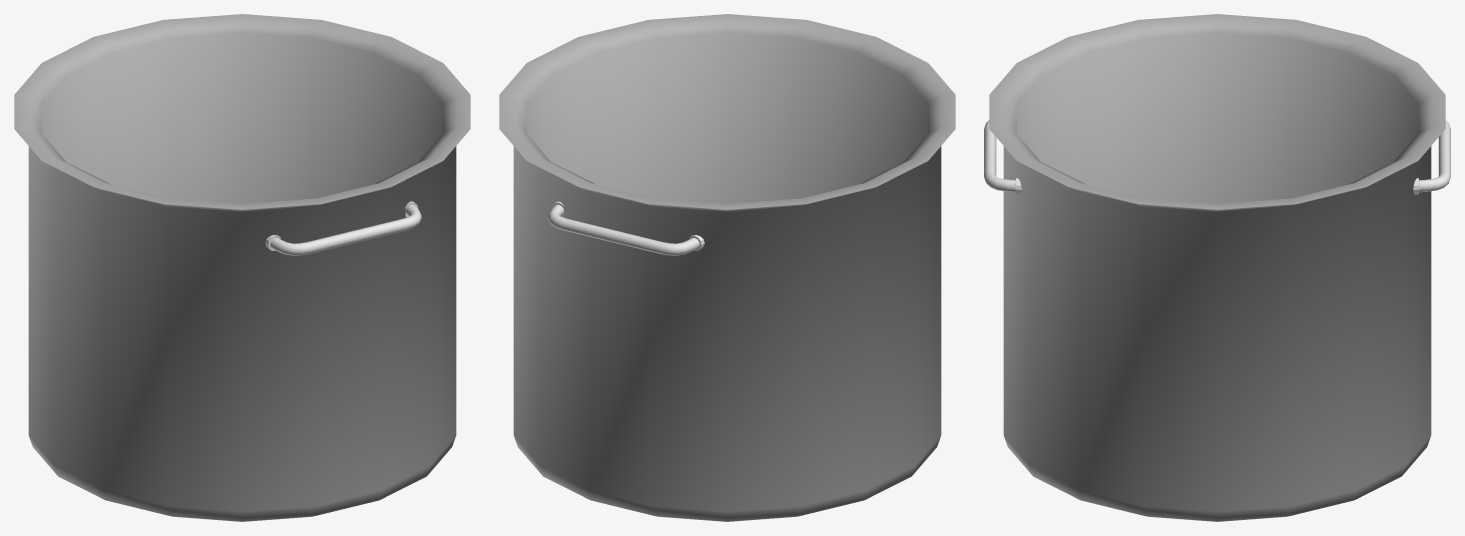
Rendered from KitchenMediumPot.fbx.
3 views of the same model, side by side, from view 1: azimuth 30°, elevation 25°; view 2: azimuth 150°, elevation 25°; view 3: azimuth 270°, elevation 25° (orthographic).
Visible parts, largest first — view 1: polySurface21; view 2: polySurface21; view 3: polySurface21.
Boxes of the visible parts, x1,y1,x2,y2 form: polySurface21: (14,14,470,521); polySurface21: (499,14,955,521); polySurface21: (984,14,1450,521).
Size of the model in its own units: 25.61 by 19.78 by 25.8.
